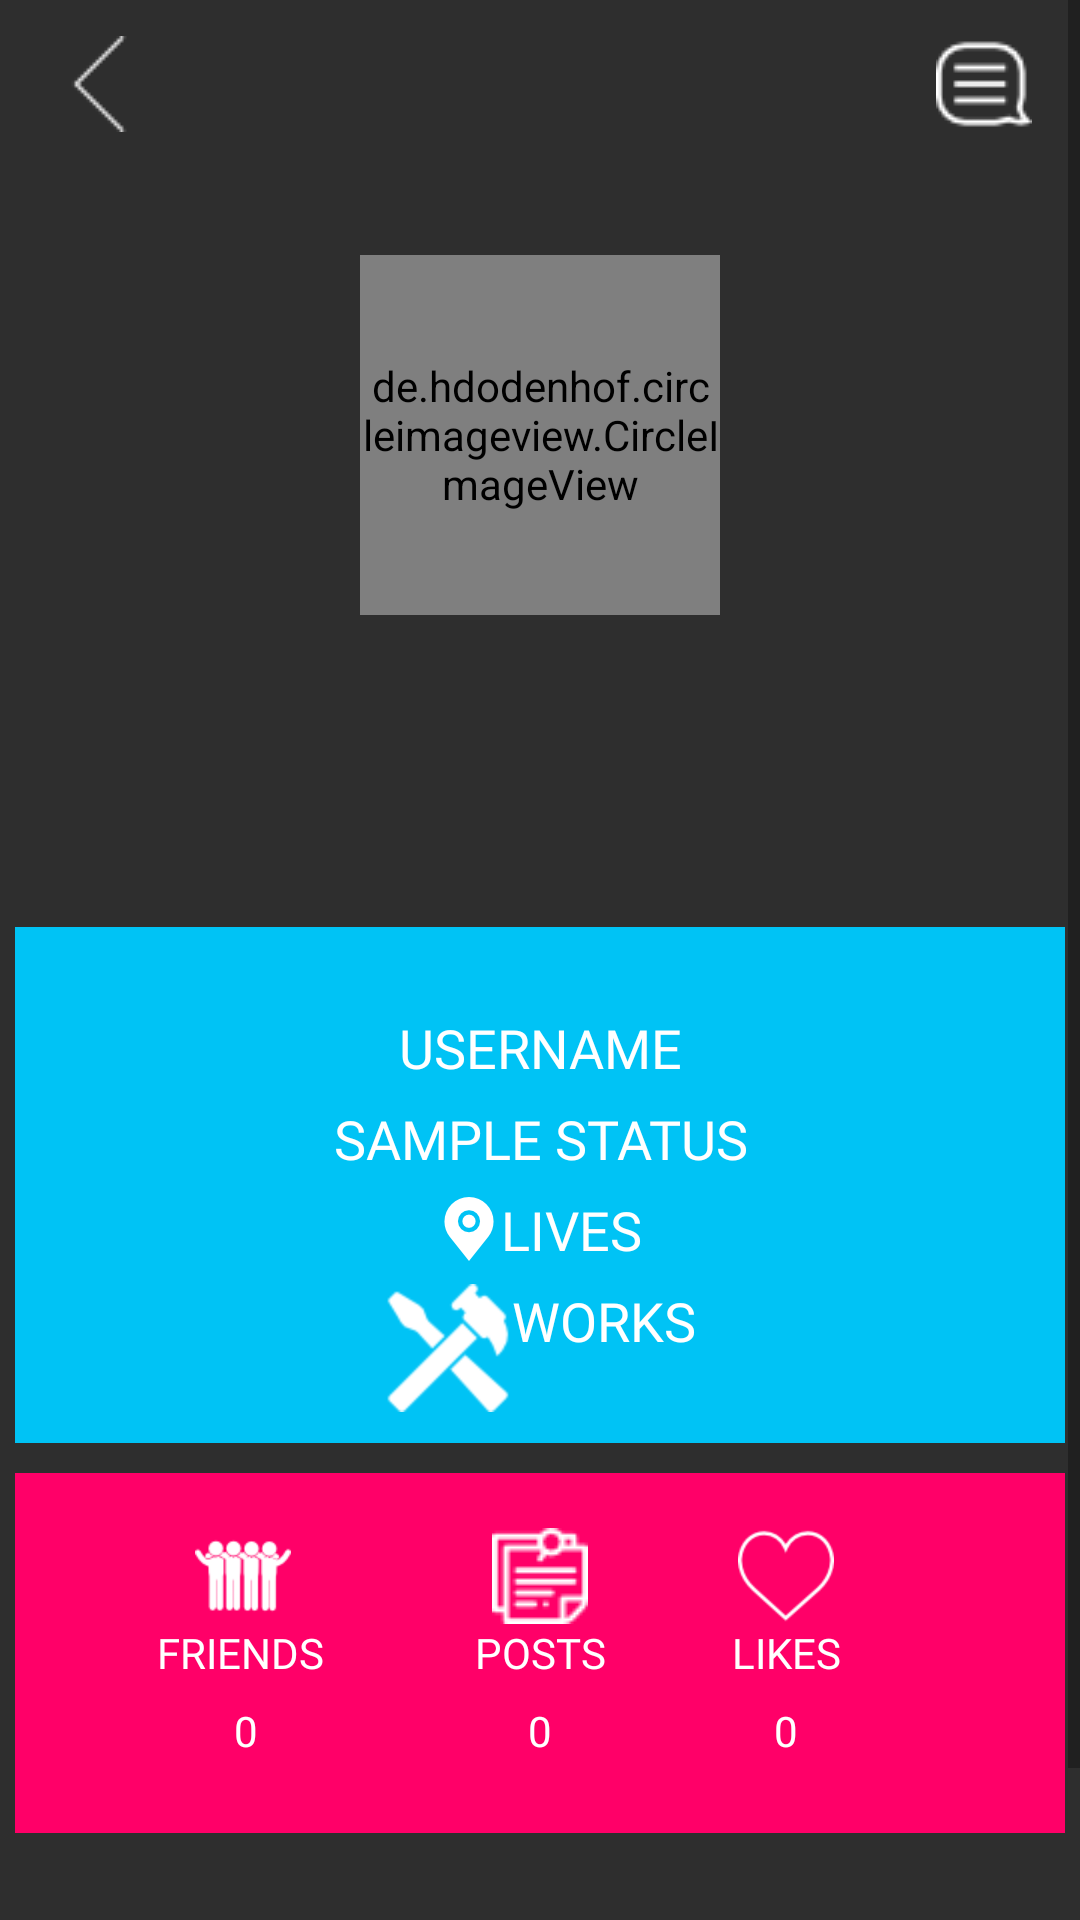

Where to tap for icons on this 1080w x 1920h app screen, as (x,y):
backbtn: (99,84)
msgicon: (984,84)
